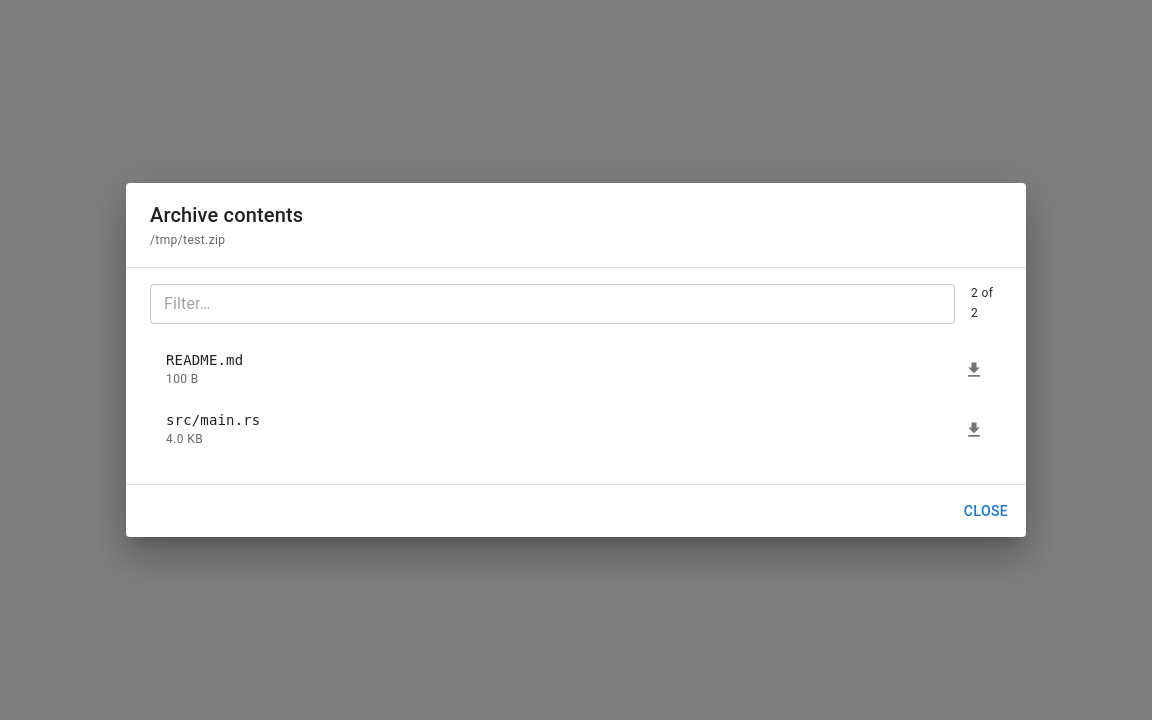
ArchiveViewerDialog › filters entries by case-insensitive substring
The width and height of the screenshot is (1152, 720).
Check: the text "README.md" is shown, box [166,352,243,368]
Type "MAIN" into the field with placeholder "Filter…".
click(552, 304); type("MAIN")  # box [150,284,955,324]
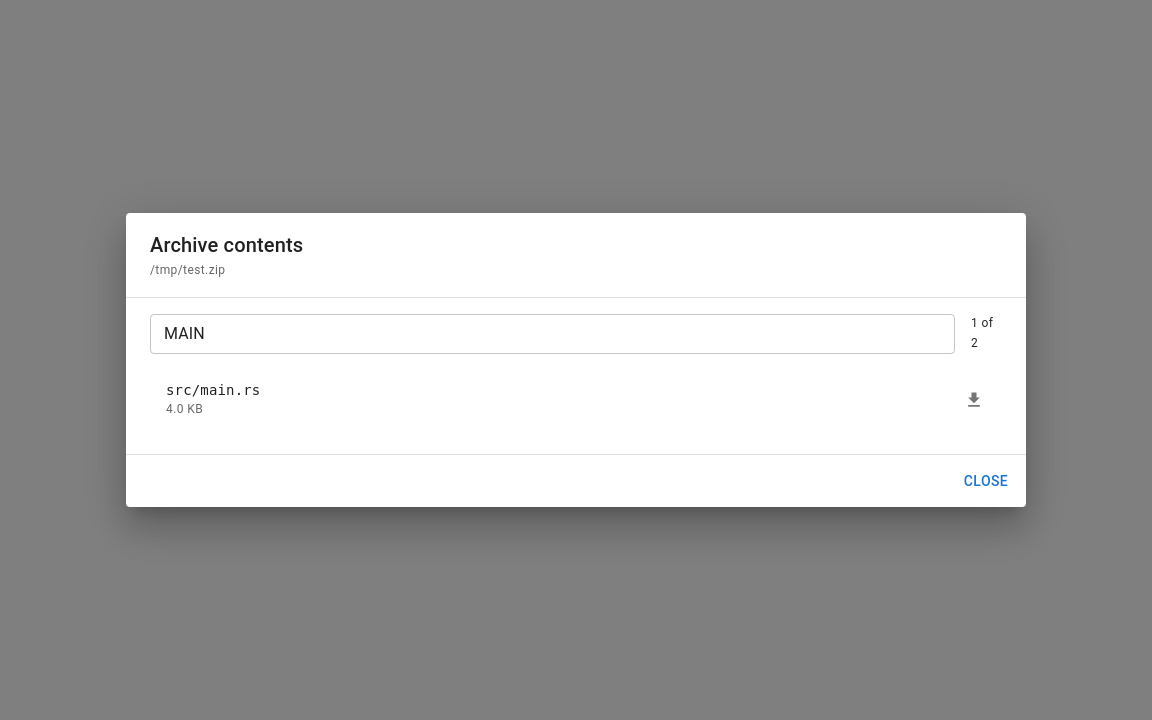
Check: the text "src/main.rs" is shown, box [166,382,260,398]
Check: the text "README.md" is gone
